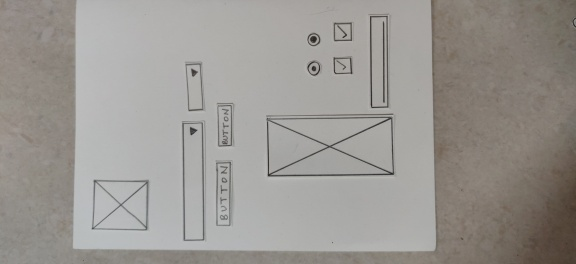button: (214, 157, 234, 230), (214, 99, 235, 151)
checkbox: (330, 54, 355, 78), (331, 20, 354, 44)
dropdown: (180, 119, 208, 245), (182, 61, 207, 114)
img: (264, 113, 396, 180), (89, 177, 153, 233)
radio: (304, 59, 323, 78), (305, 31, 322, 48)
text: (366, 12, 393, 110)
